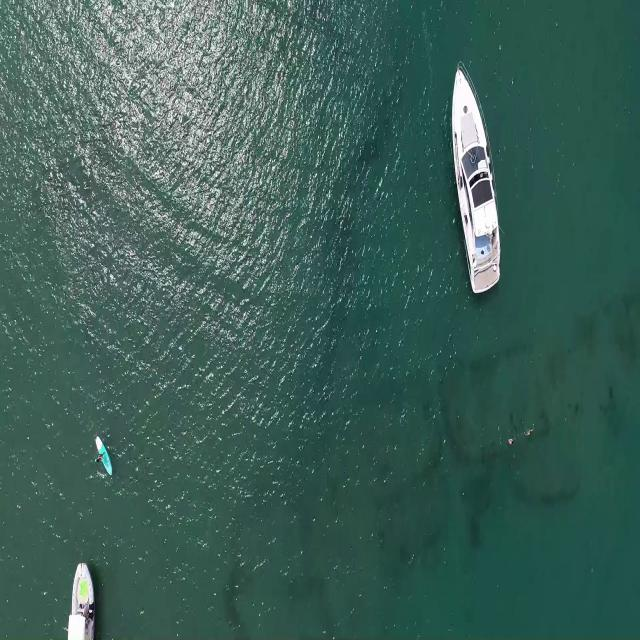boat: (449, 60, 504, 298), (65, 561, 97, 635)
person: (523, 423, 536, 438), (93, 450, 105, 464), (508, 435, 516, 445)
surfboard: (96, 433, 111, 483)
